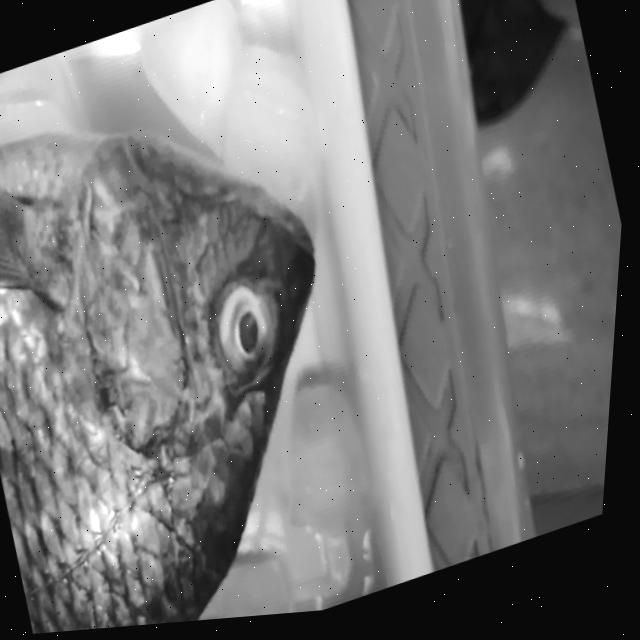Fresh: (200, 271, 301, 410)
